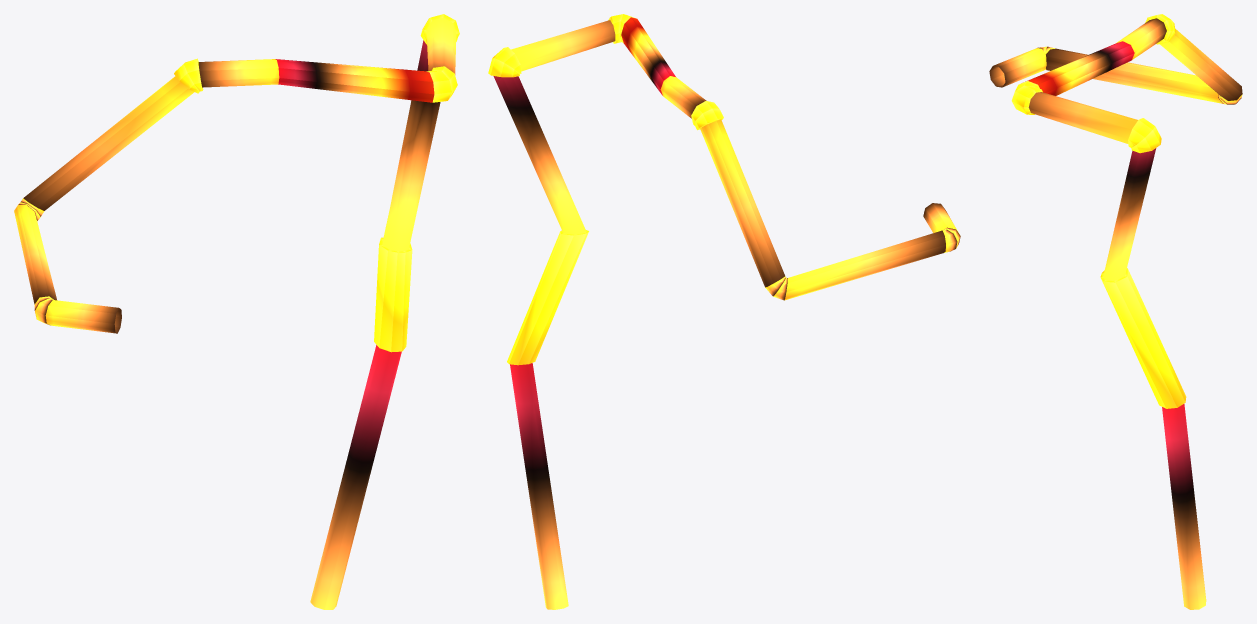
The model's file is CanoTexture.fbx.
The picture shows the model from 3 angles, left to right: view 1: azimuth 30°, elevation 25°; view 2: azimuth 150°, elevation 25°; view 3: azimuth 270°, elevation 25°; orthographic projection. The views are drawn at different scales.
Visible parts, largest first — view 1: Cano1; view 2: Cano1; view 3: Cano1.
Boxes of the visible parts, <box> form: Cano1: <box>14,14,459,609</box>; Cano1: <box>488,14,960,609</box>; Cano1: <box>989,14,1242,609</box>.
Size of the model in its own units: 5.85 by 7.07 by 3.07.
